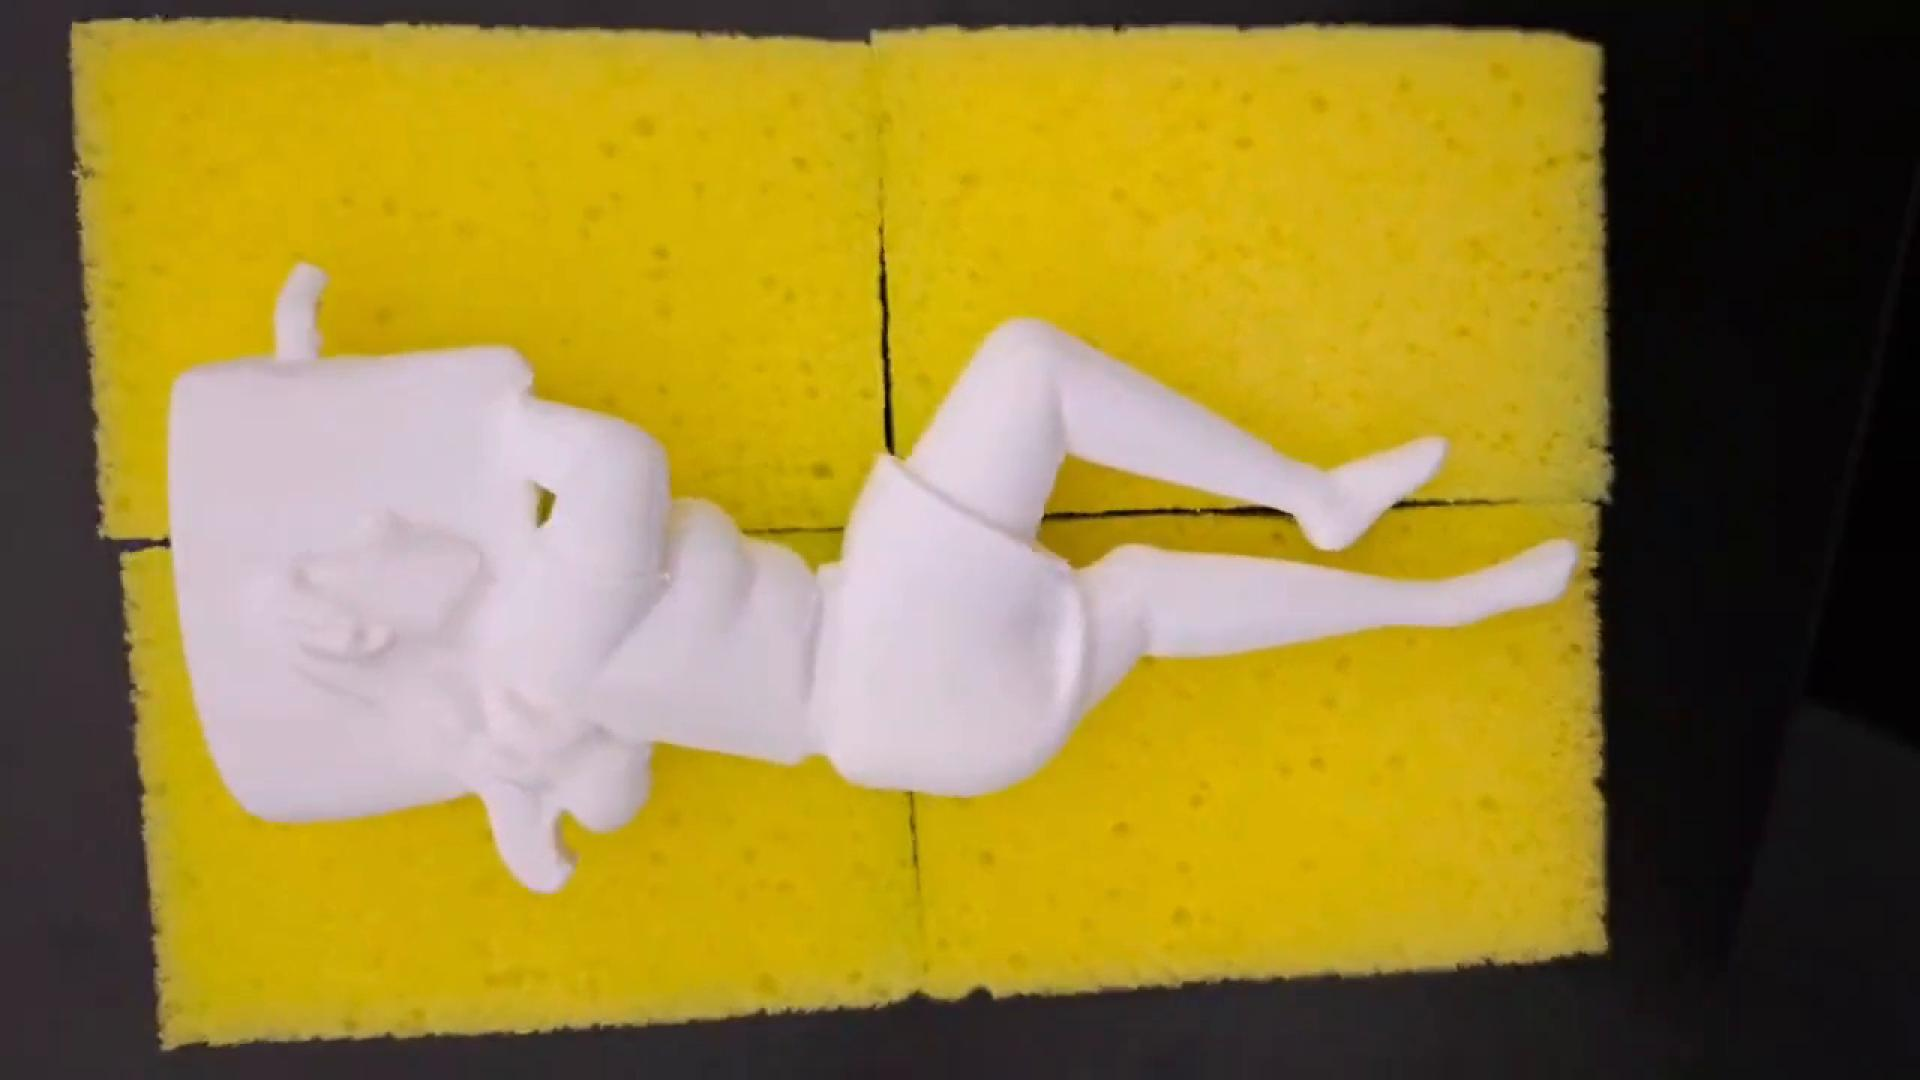Good-style: (79, 269, 1693, 936)
